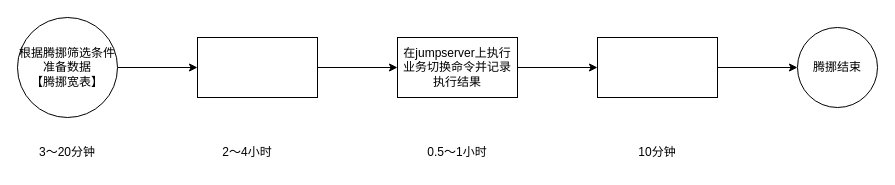
Some shapes in this 895 by 185 pixel diagram are drawn without their labels. The shapes that lost their labels are listed below. From the top down, each one's box as (x1, y1, x2, y2) in pixels, then its label:
(196, 36, 318, 98): 分析和确定腾挪目标业务
(596, 36, 718, 98): 登记腾挪记录
